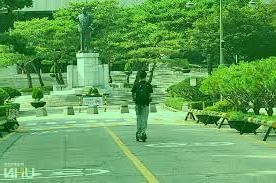nonhelmet: (130, 69, 158, 142)
